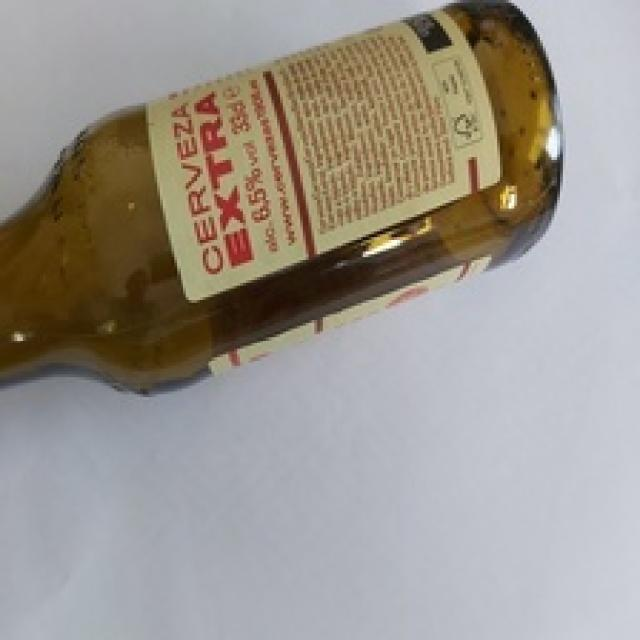Glass: (0, 0, 568, 395)
